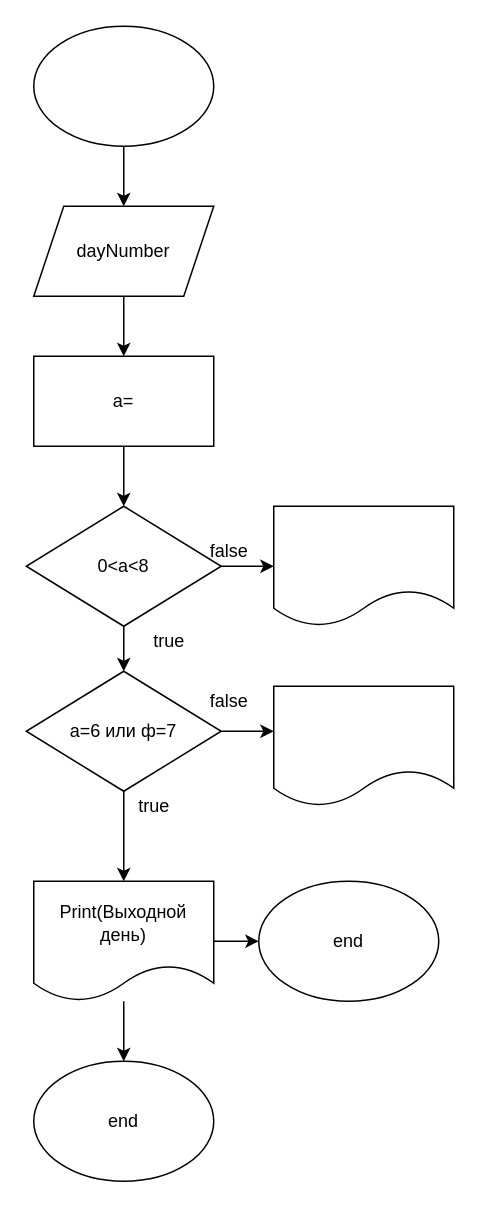
Image size: 480x1208. Some labels were removed from this diagram. The shapes that lost their labels are listed below. From the top down, each one's box as (x1, y1, x2, y2) in pixels, then its label:
(32, 25, 214, 146): start
(272, 505, 454, 626): Print(День не определен)
(272, 685, 454, 806): Print(Рабочий день)
